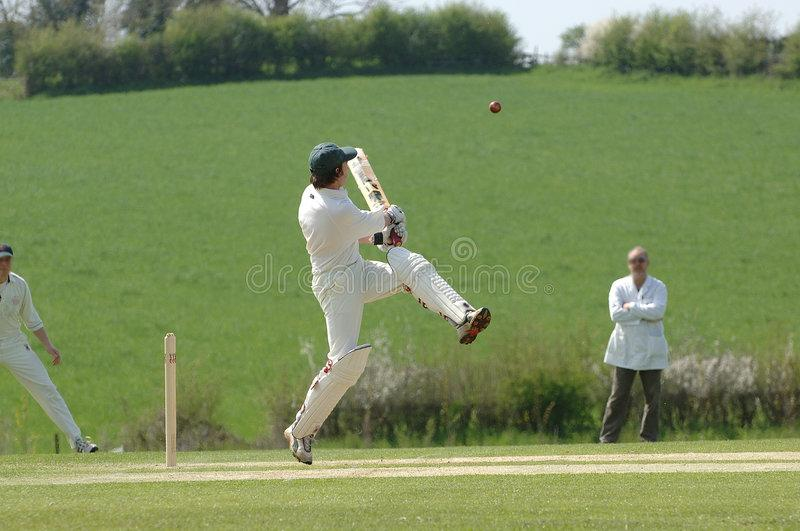batsman: (281, 141, 498, 467)
